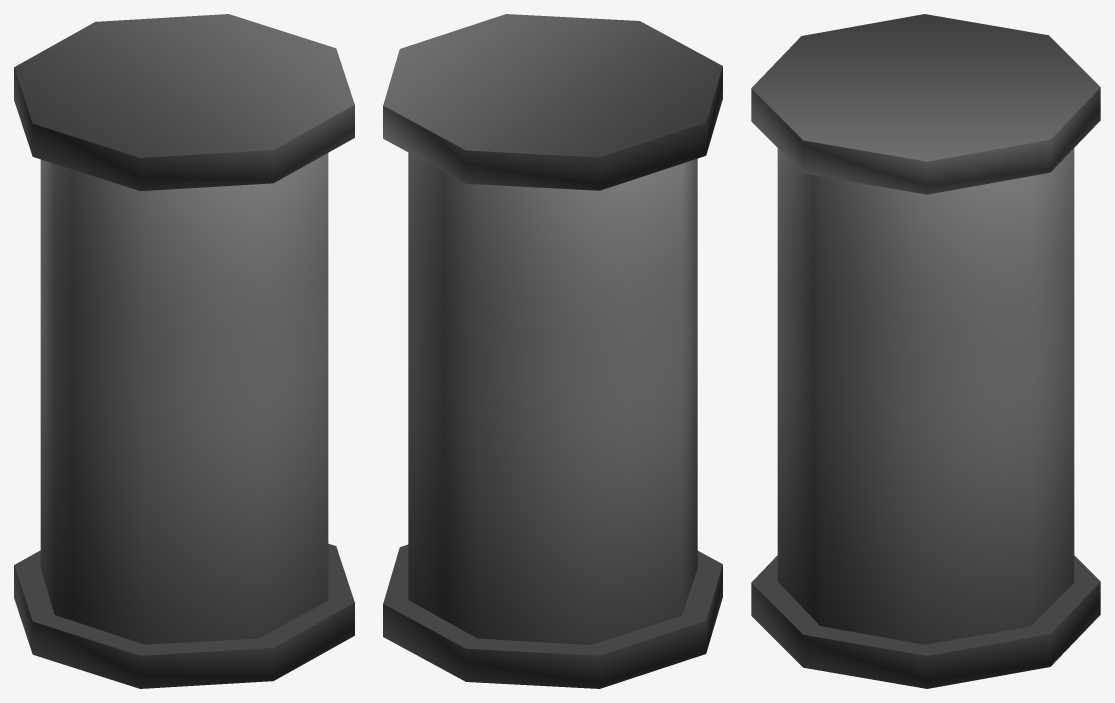
The model's file is Pipe_Vertical.glb.
3 renders of one model, left to right at view 1: azimuth 30°, elevation 25°; view 2: azimuth 150°, elevation 25°; view 3: azimuth 270°, elevation 25°, orthographic.
Parts seen in each view (by area): view 1: Pipe_Vertical; view 2: Pipe_Vertical; view 3: Pipe_Vertical.
Part boxes in pixels (x1=…): Pipe_Vertical: x1=14, y1=14, x2=354, y2=688; Pipe_Vertical: x1=383, y1=14, x2=722, y2=688; Pipe_Vertical: x1=751, y1=14, x2=1100, y2=688.
Size of the model in its own units: 0.3004 by 0.5 by 0.3004.
Materials: 1 (1 with a texture image).
